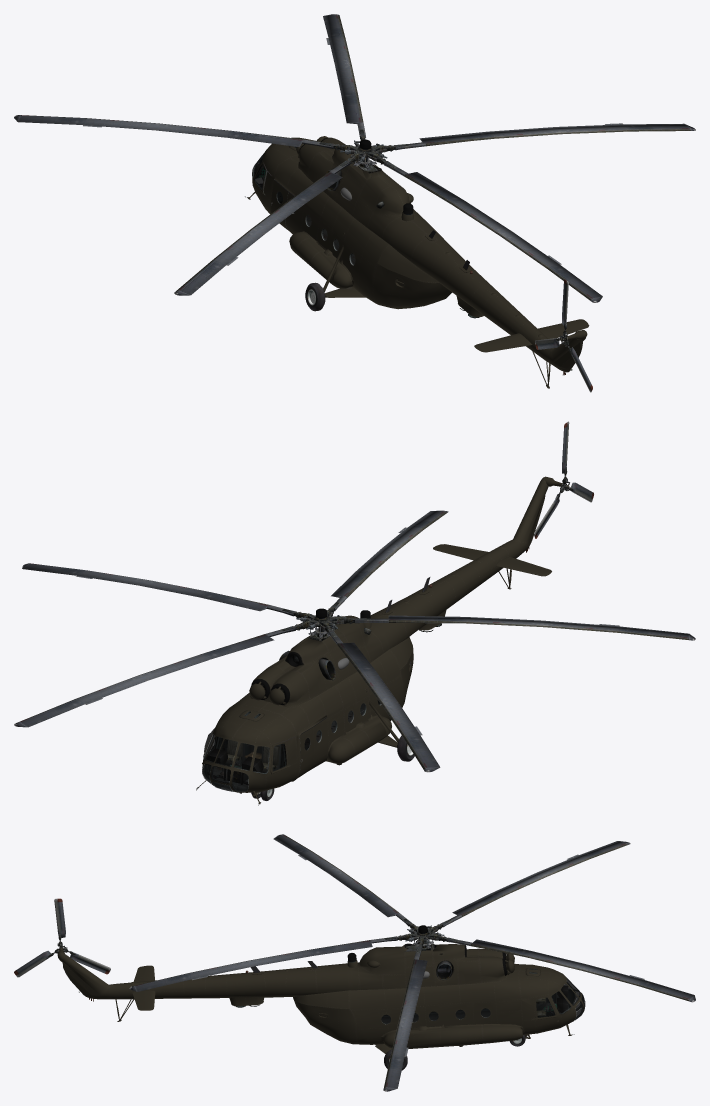
3 views of the same model, one above another, from view 1: azimuth 30°, elevation 25°; view 2: azimuth 150°, elevation 25°; view 3: azimuth 270°, elevation 25° (orthographic). The views are drawn at different scales.
Visible parts, largest first — view 1: A_mi8; view 2: A_mi8; view 3: A_mi8.
Part boxes in pixels (x1,y1,x2,y2): A_mi8: (14,14,695,392); A_mi8: (14,421,695,805); A_mi8: (14,834,695,1091).
Size of the model in its own units: 55.7 by 15.13 by 67.57.
Materials: 9 (8 with a texture image).
